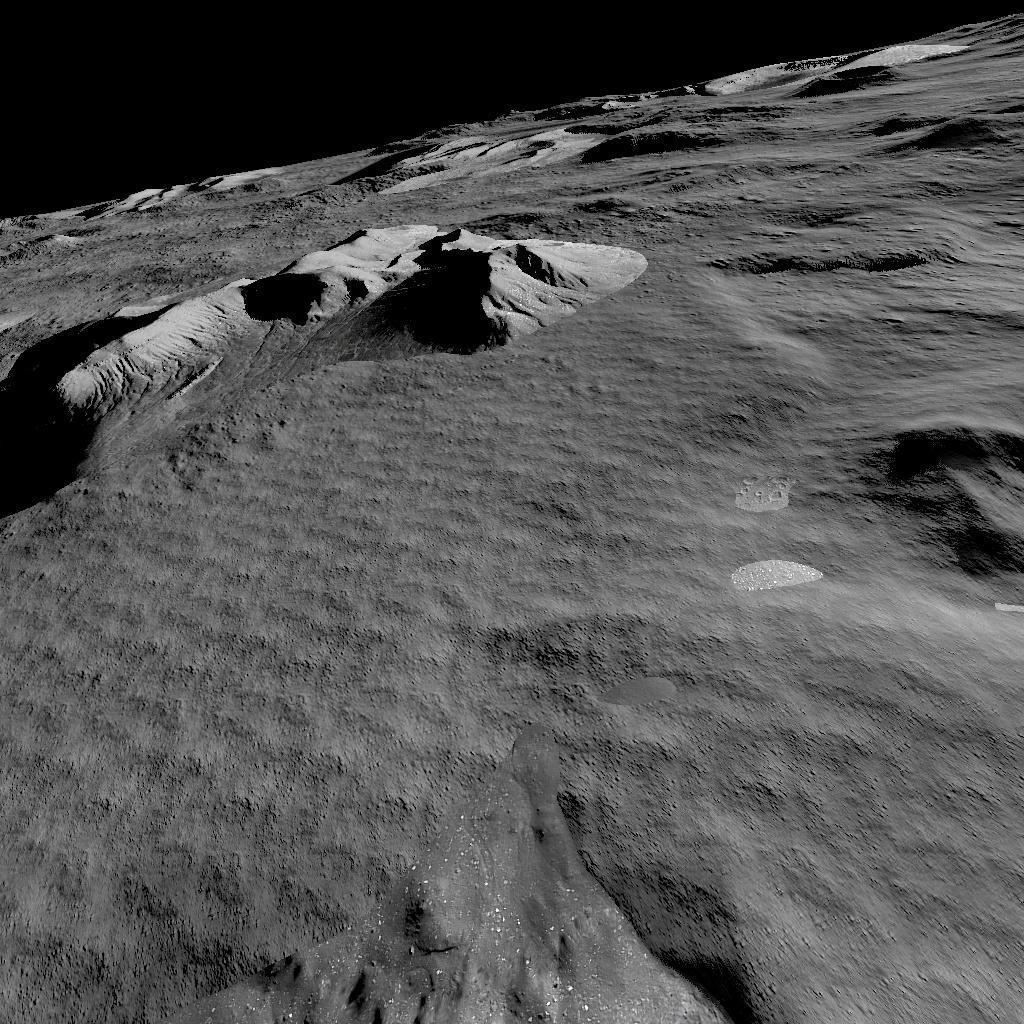Boulders: (0, 228, 645, 528), (351, 12, 1024, 192), (78, 165, 280, 215)
Crater: (0, 865, 1024, 1024), (886, 418, 1024, 592), (701, 245, 933, 280)
Plan surface: (0, 540, 873, 853)
